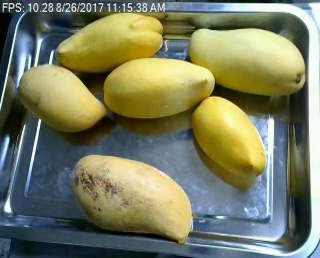Mango: (71, 154, 191, 245), (191, 28, 305, 93), (55, 10, 163, 74), (103, 59, 217, 116), (193, 92, 267, 175), (17, 64, 105, 128)
